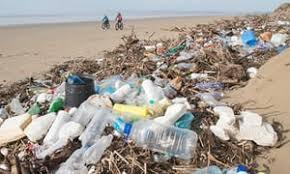Plastic bag: (211, 101, 276, 148), (82, 110, 108, 144)
Plastic bottle: (117, 121, 203, 155), (80, 133, 115, 160)
